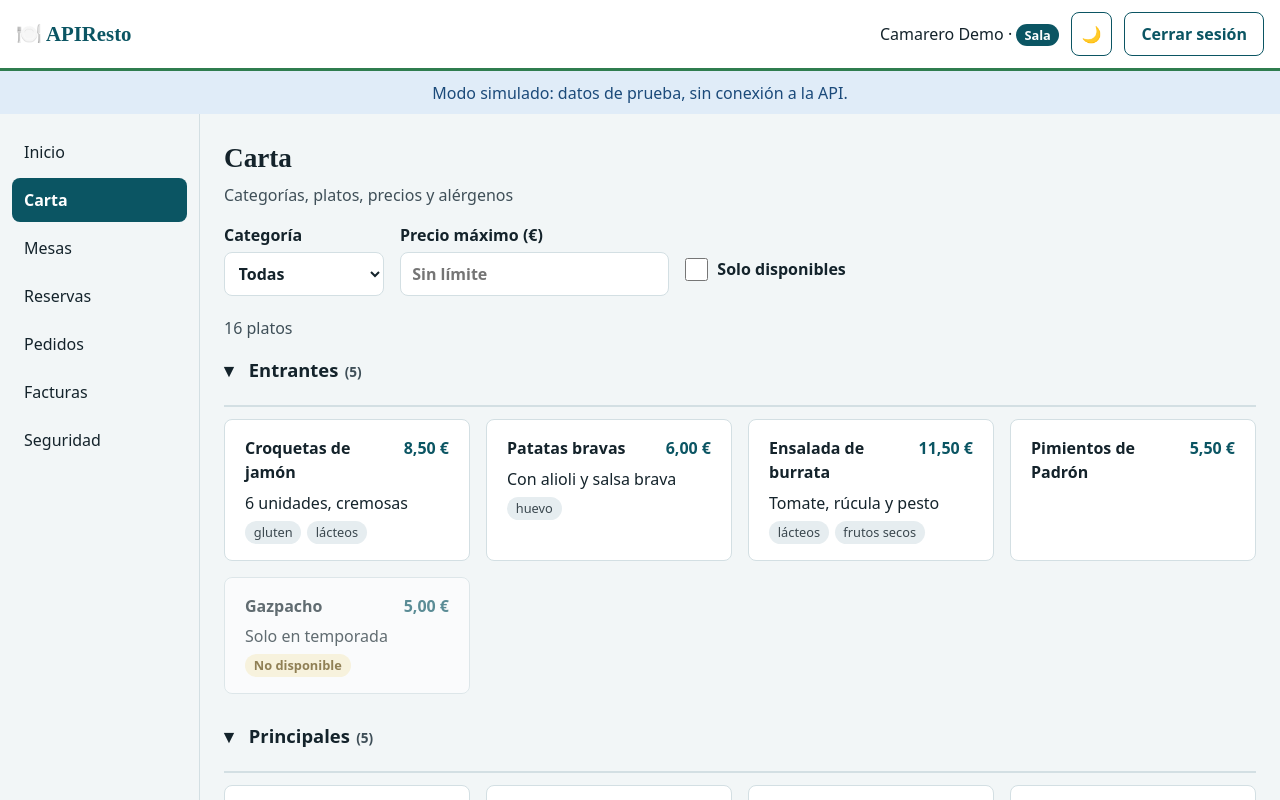
Test: Carta › filtra solo los disponibles y por precio máximo
Expected: the text "Gazpacho" is shown, 245,594 -> 322,618
Click the checkbox labelled "Solo disponibles". click: (697, 269)
box: 685,258 -> 708,281
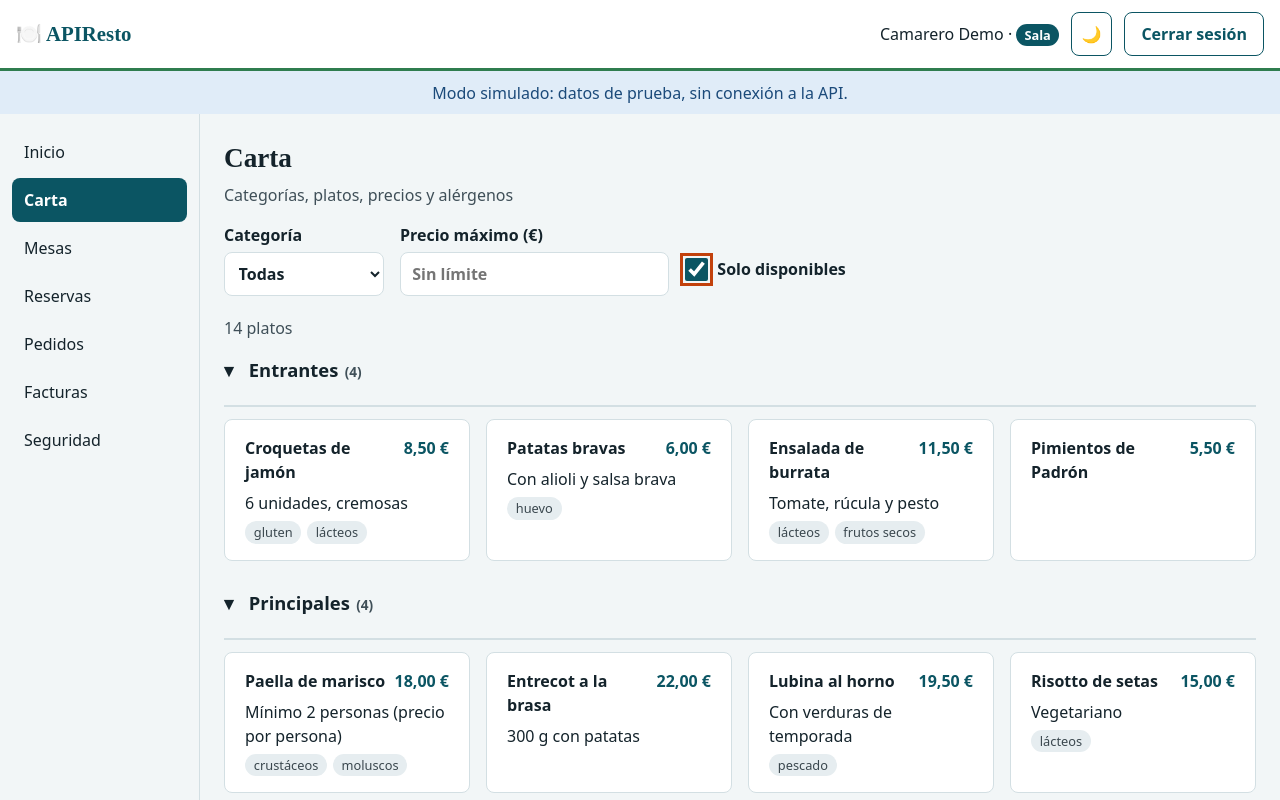
Result: the text "14 platos" is shown at 224,317 -> 292,339
Result: the text "Gazpacho" is gone
Type "6" into the number field labelled "Precio máximo (€)". click: (535, 274)
box: 400,252 -> 669,296
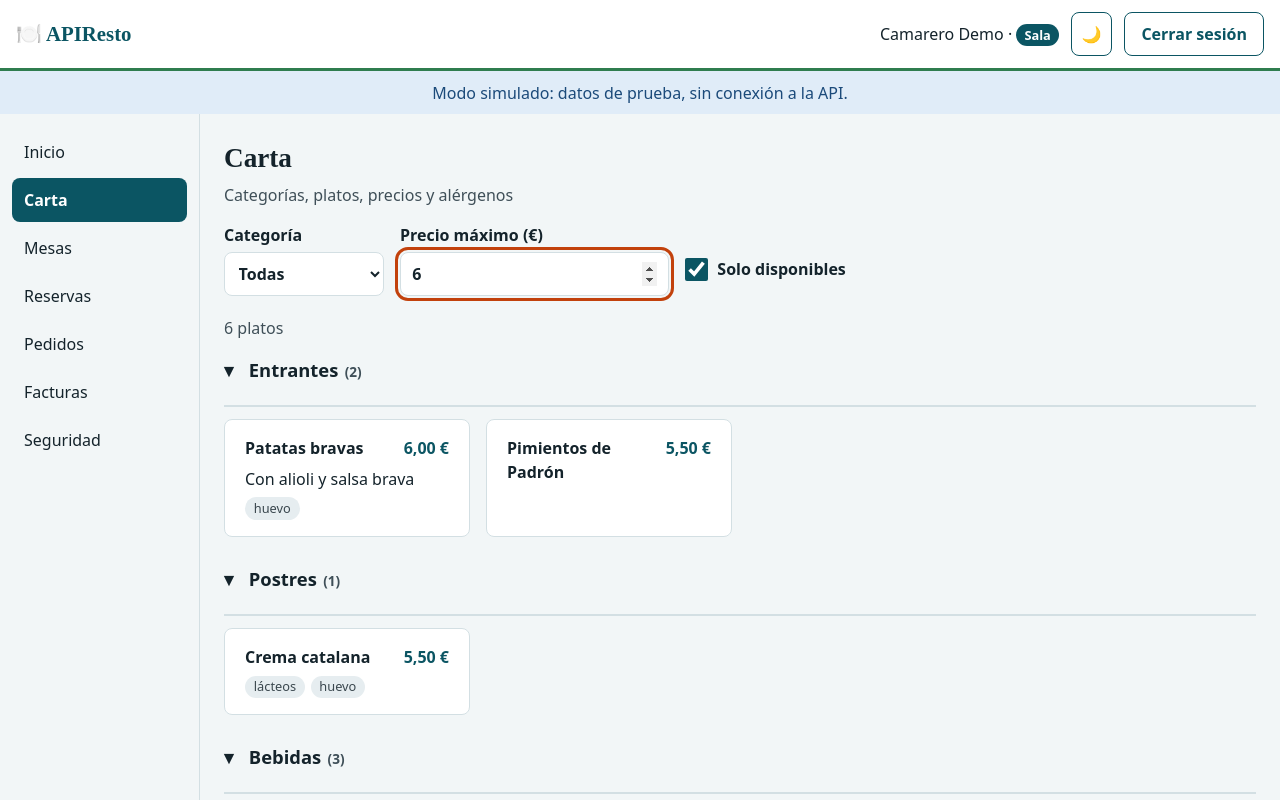
Result: the text "6 platos" is shown at 224,317 -> 283,339
